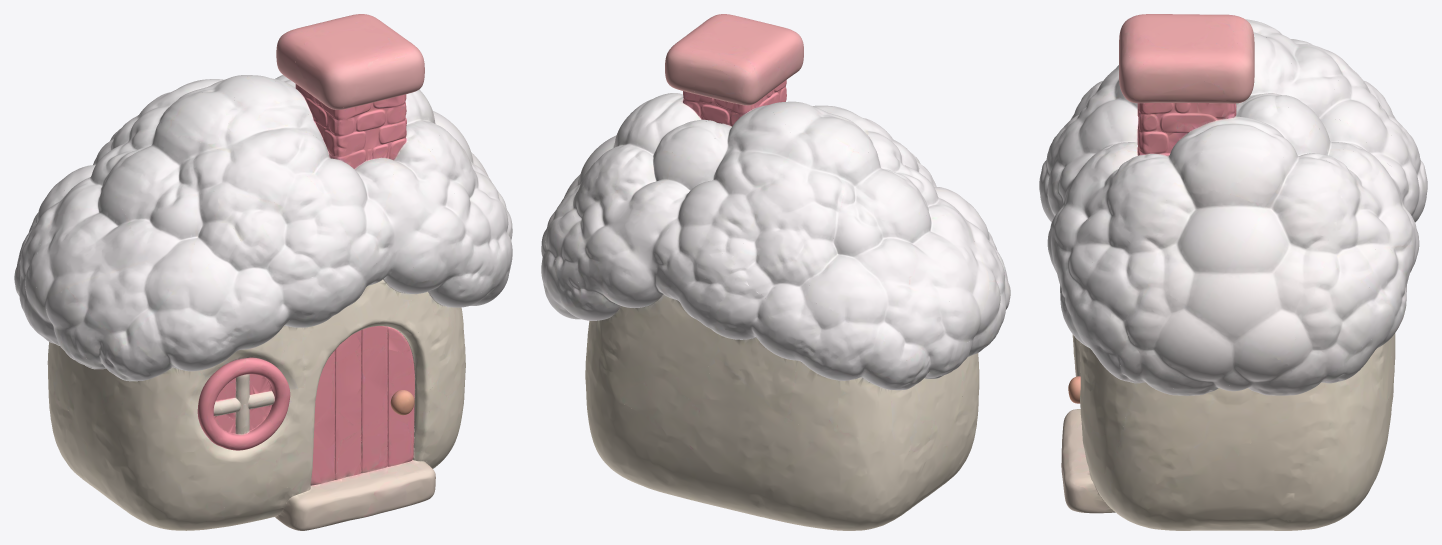
File: house-pink-low.glb
3 views of the same model, side by side, from view 1: azimuth 30°, elevation 25°; view 2: azimuth 150°, elevation 25°; view 3: azimuth 270°, elevation 25° (orthographic). The views are drawn at different scales.
Parts seen in each view (by area): view 1: Mesh_0.006; view 2: Mesh_0.006; view 3: Mesh_0.006.
Part boxes in pixels (x1,y1,x2,y2): Mesh_0.006: (14,14,512,530); Mesh_0.006: (541,14,1010,530); Mesh_0.006: (1039,14,1427,530).
Bounding box in the file's own units: 1.9 × 1.76 × 1.34.
Materials: 1 (1 with a texture image).
